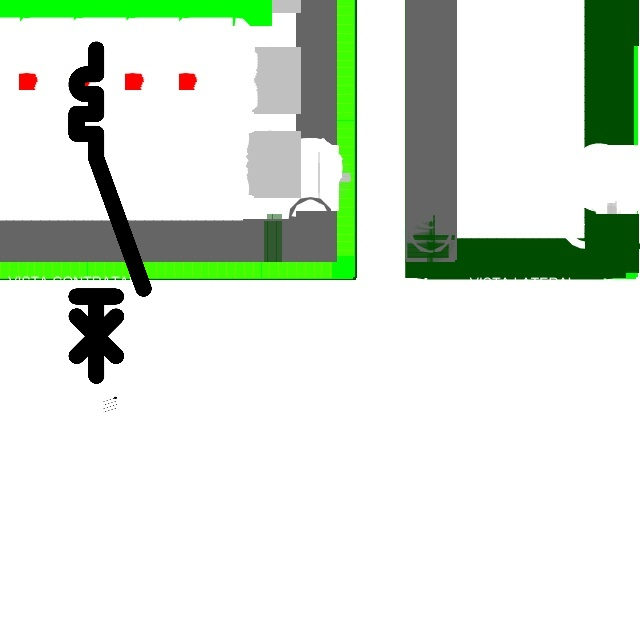interruptor_termomagnetico: (68, 41, 152, 384)
